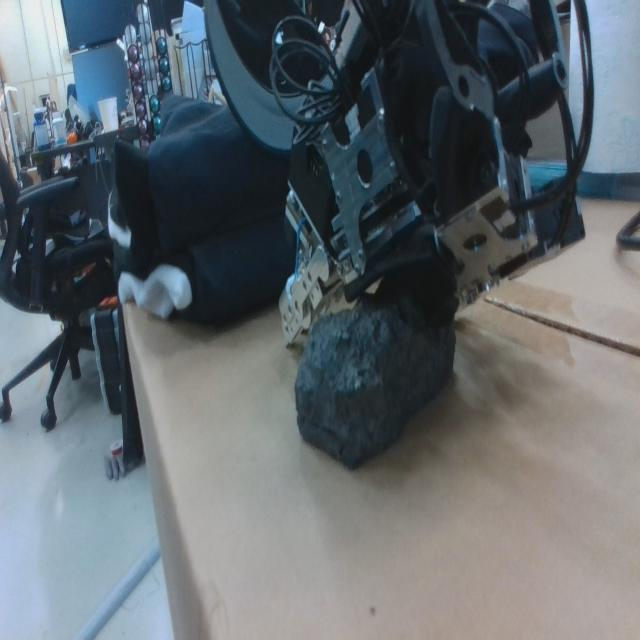stone: (294, 291, 458, 476)
